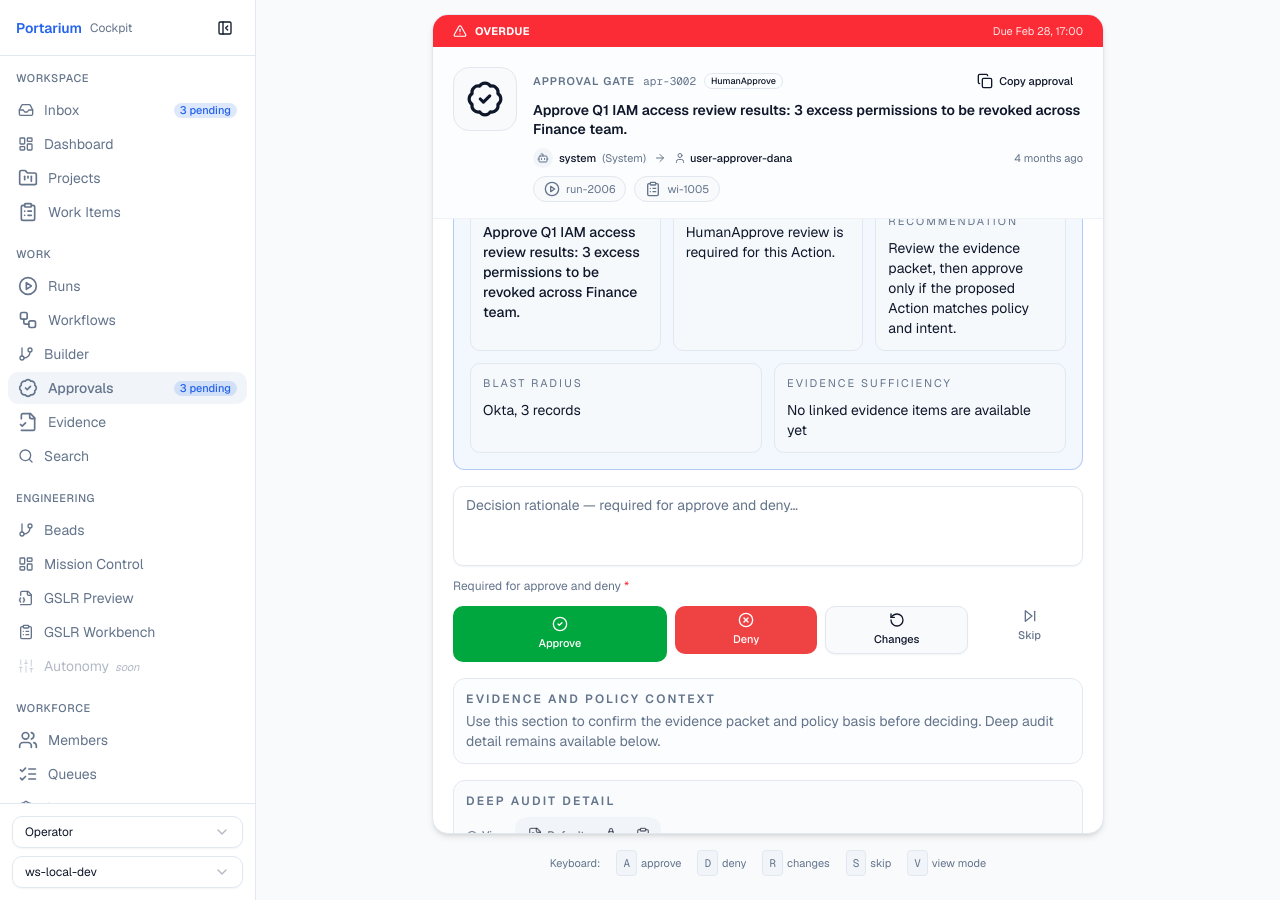
Approvals triage page › does not advance to another approval after approving a policy-studio focused review
(page scrolled)
Type "Approved after reviewing evidence" into the text box labelled "Decision rationale — required for approve and deny…" at point(768, 526), box [453, 486, 1083, 566]
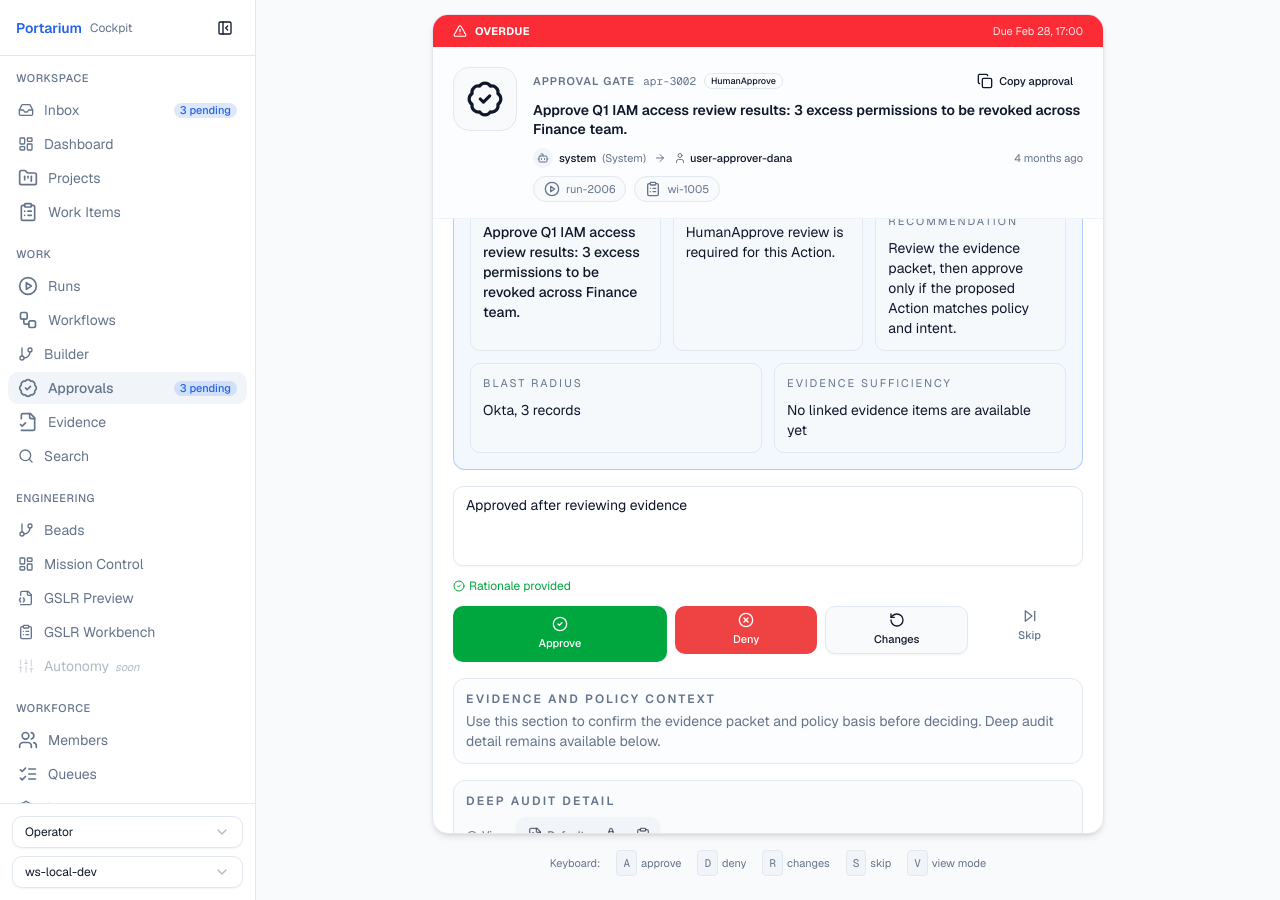
Click the button "Approve" at point(560, 634), box [453, 606, 667, 662]
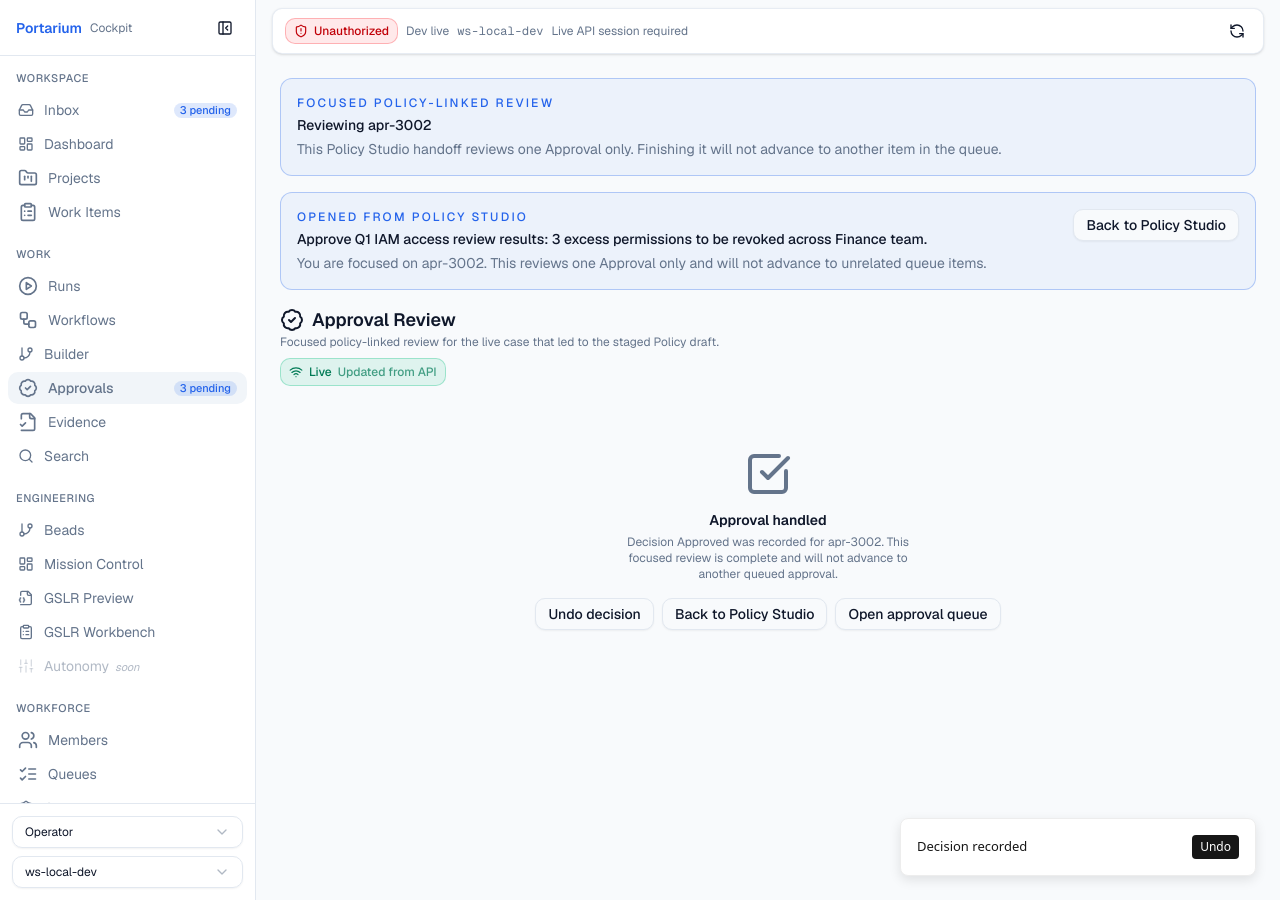
expect the heading "Approval handled" is shown: met, box [709, 510, 827, 530]
expect the text "will not advance to another queued approval" is shown: met, box [627, 534, 909, 582]
expect the link "Back to Policy Studio" in the row of "Opened from Policy Studio" is shown: met, box [1073, 209, 1239, 241]
